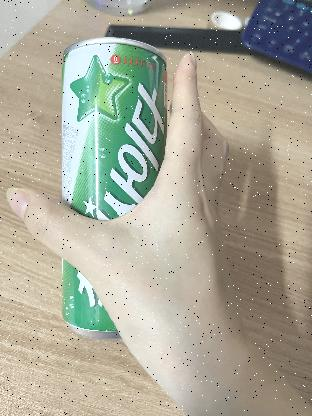Can: (60, 37, 167, 219), (60, 256, 121, 339)
